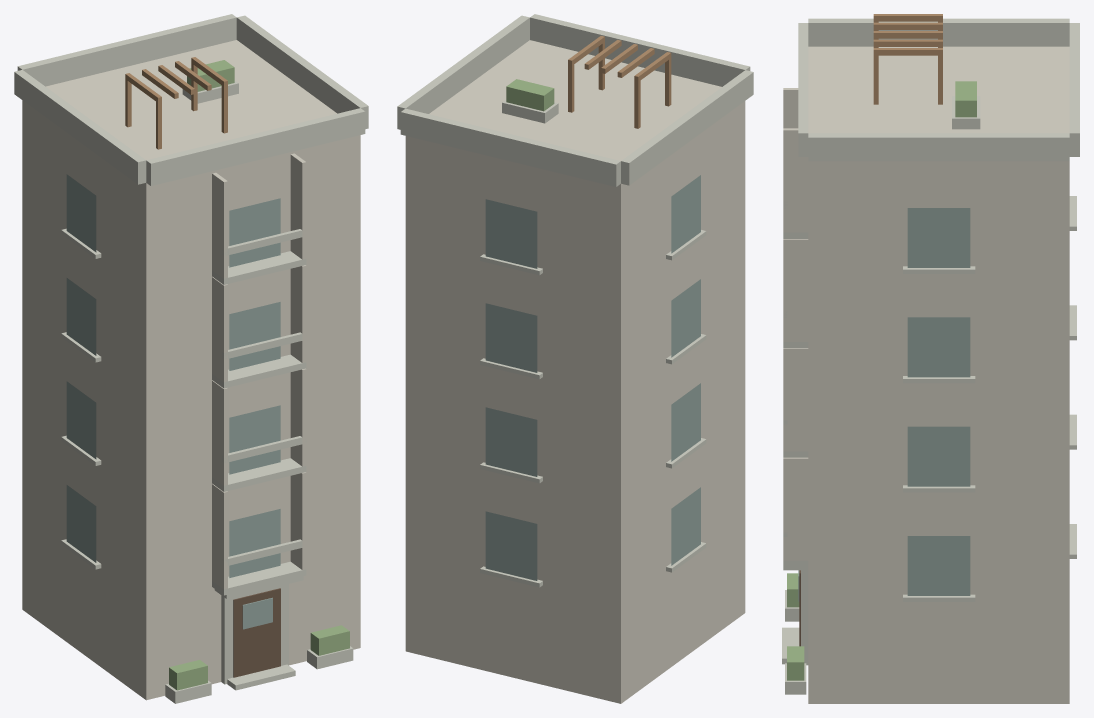
The model's file is residential_1x1_b.glb.
3 views of the same model, side by side, from view 1: azimuth 30°, elevation 25°; view 2: azimuth 150°, elevation 25°; view 3: azimuth 270°, elevation 25° (orthographic). The views are drawn at different scales.
Visible parts, largest first — view 1: residential_1x1_b_0; view 2: residential_1x1_b_0; view 3: residential_1x1_b_0.
Part boxes in pixels (x1,y1,x2,y2): residential_1x1_b_0: (14, 14, 368, 703); residential_1x1_b_0: (397, 14, 753, 703); residential_1x1_b_0: (782, 14, 1079, 703).
Size of the model in its own units: 7 by 16.5 by 7.4.
